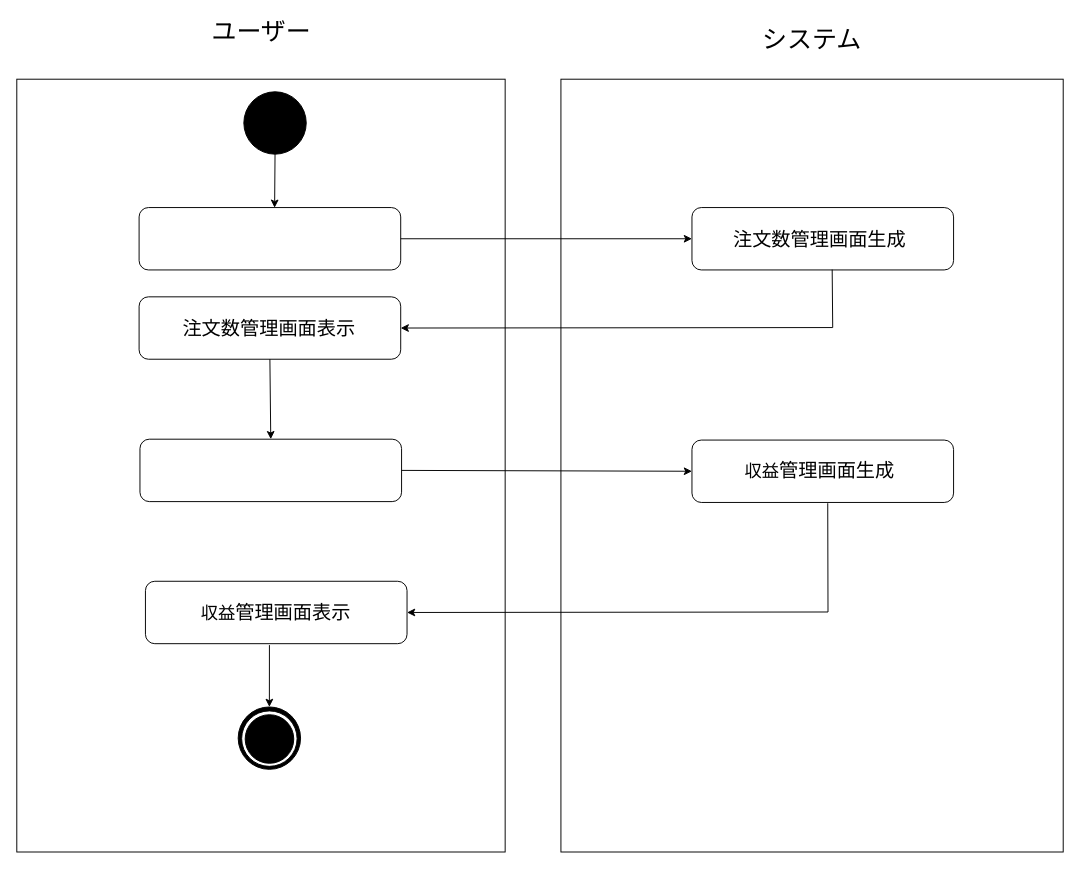
The diagram is 1080 pixels wide and 869 high, and some of its shapes have lost their labels. The centre of each missing label's shape, as x and y in pixels:
「収益管理」を選択: (x=270, y=470)
「注文数管理」を選択: (x=269, y=238)
